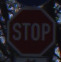stopsign: (7, 6, 56, 57)
